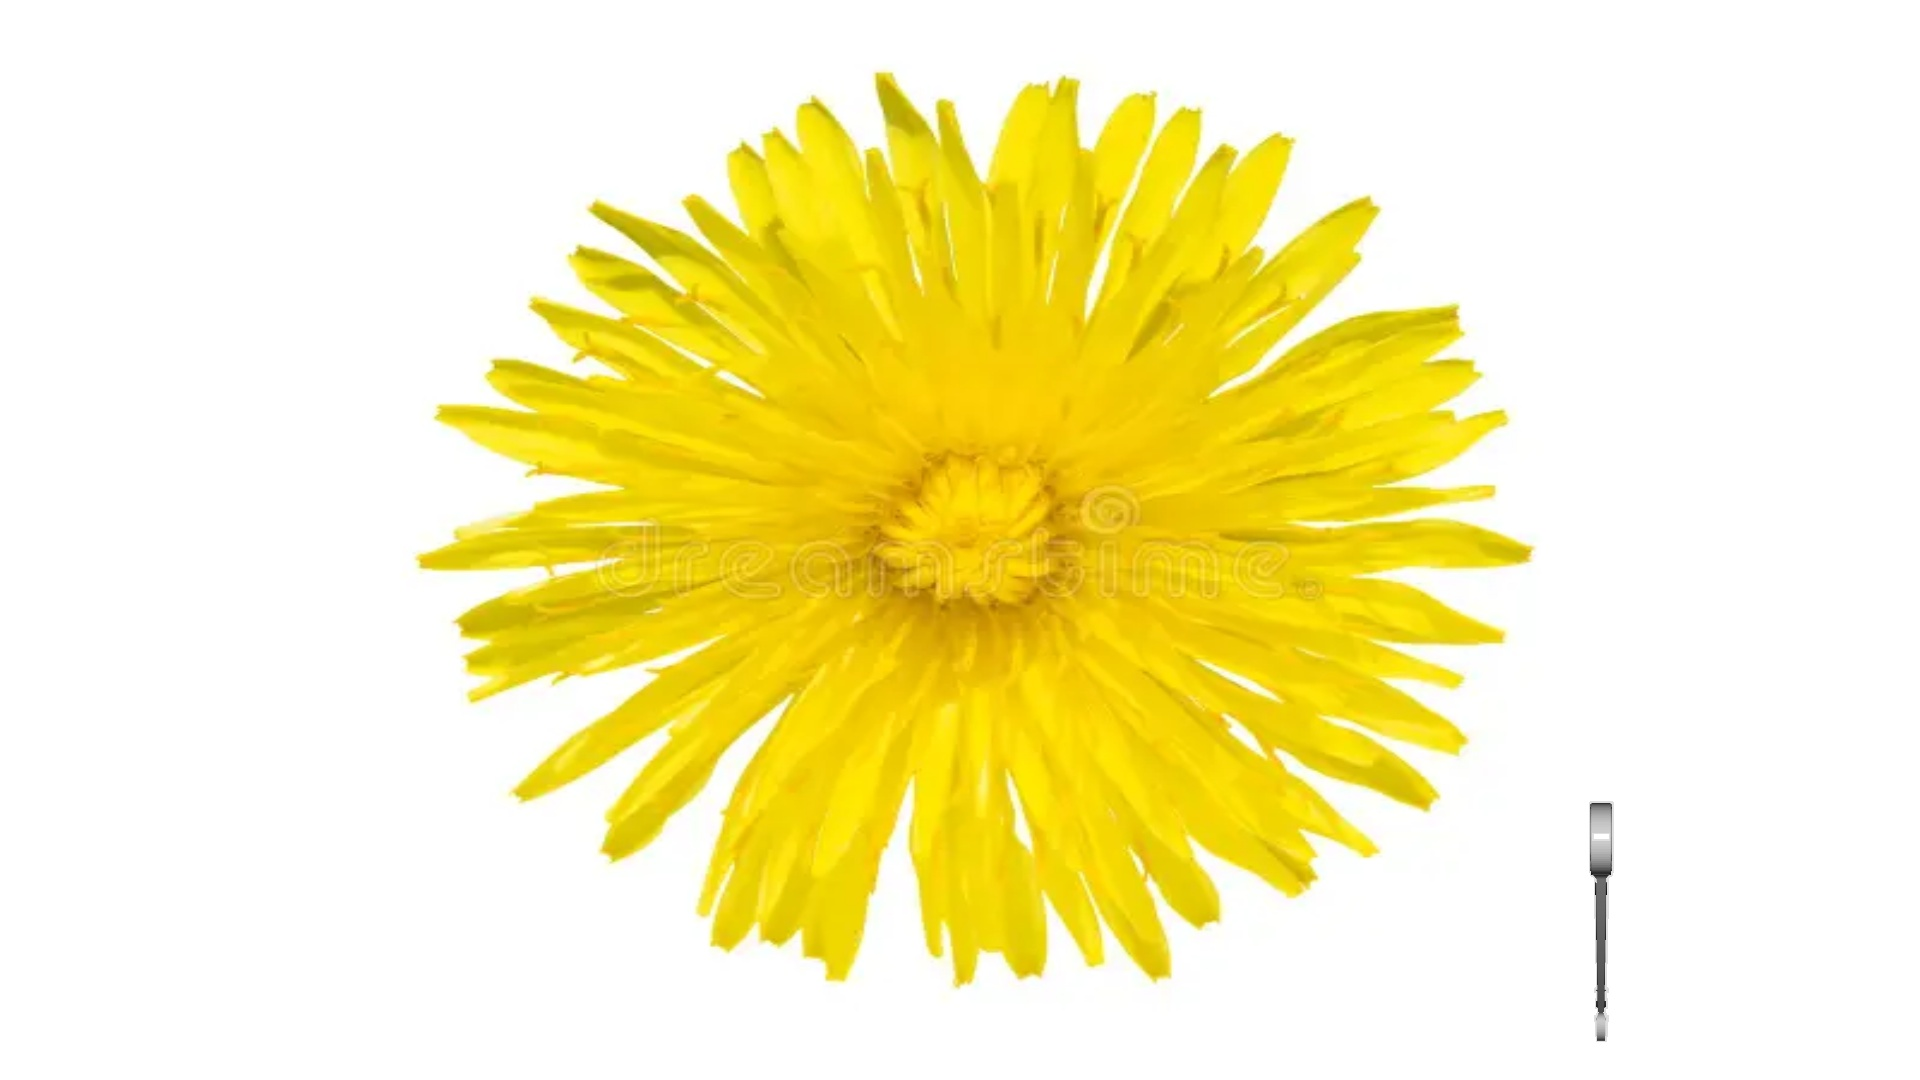Mixed Key: (1589, 800, 1613, 1040)
